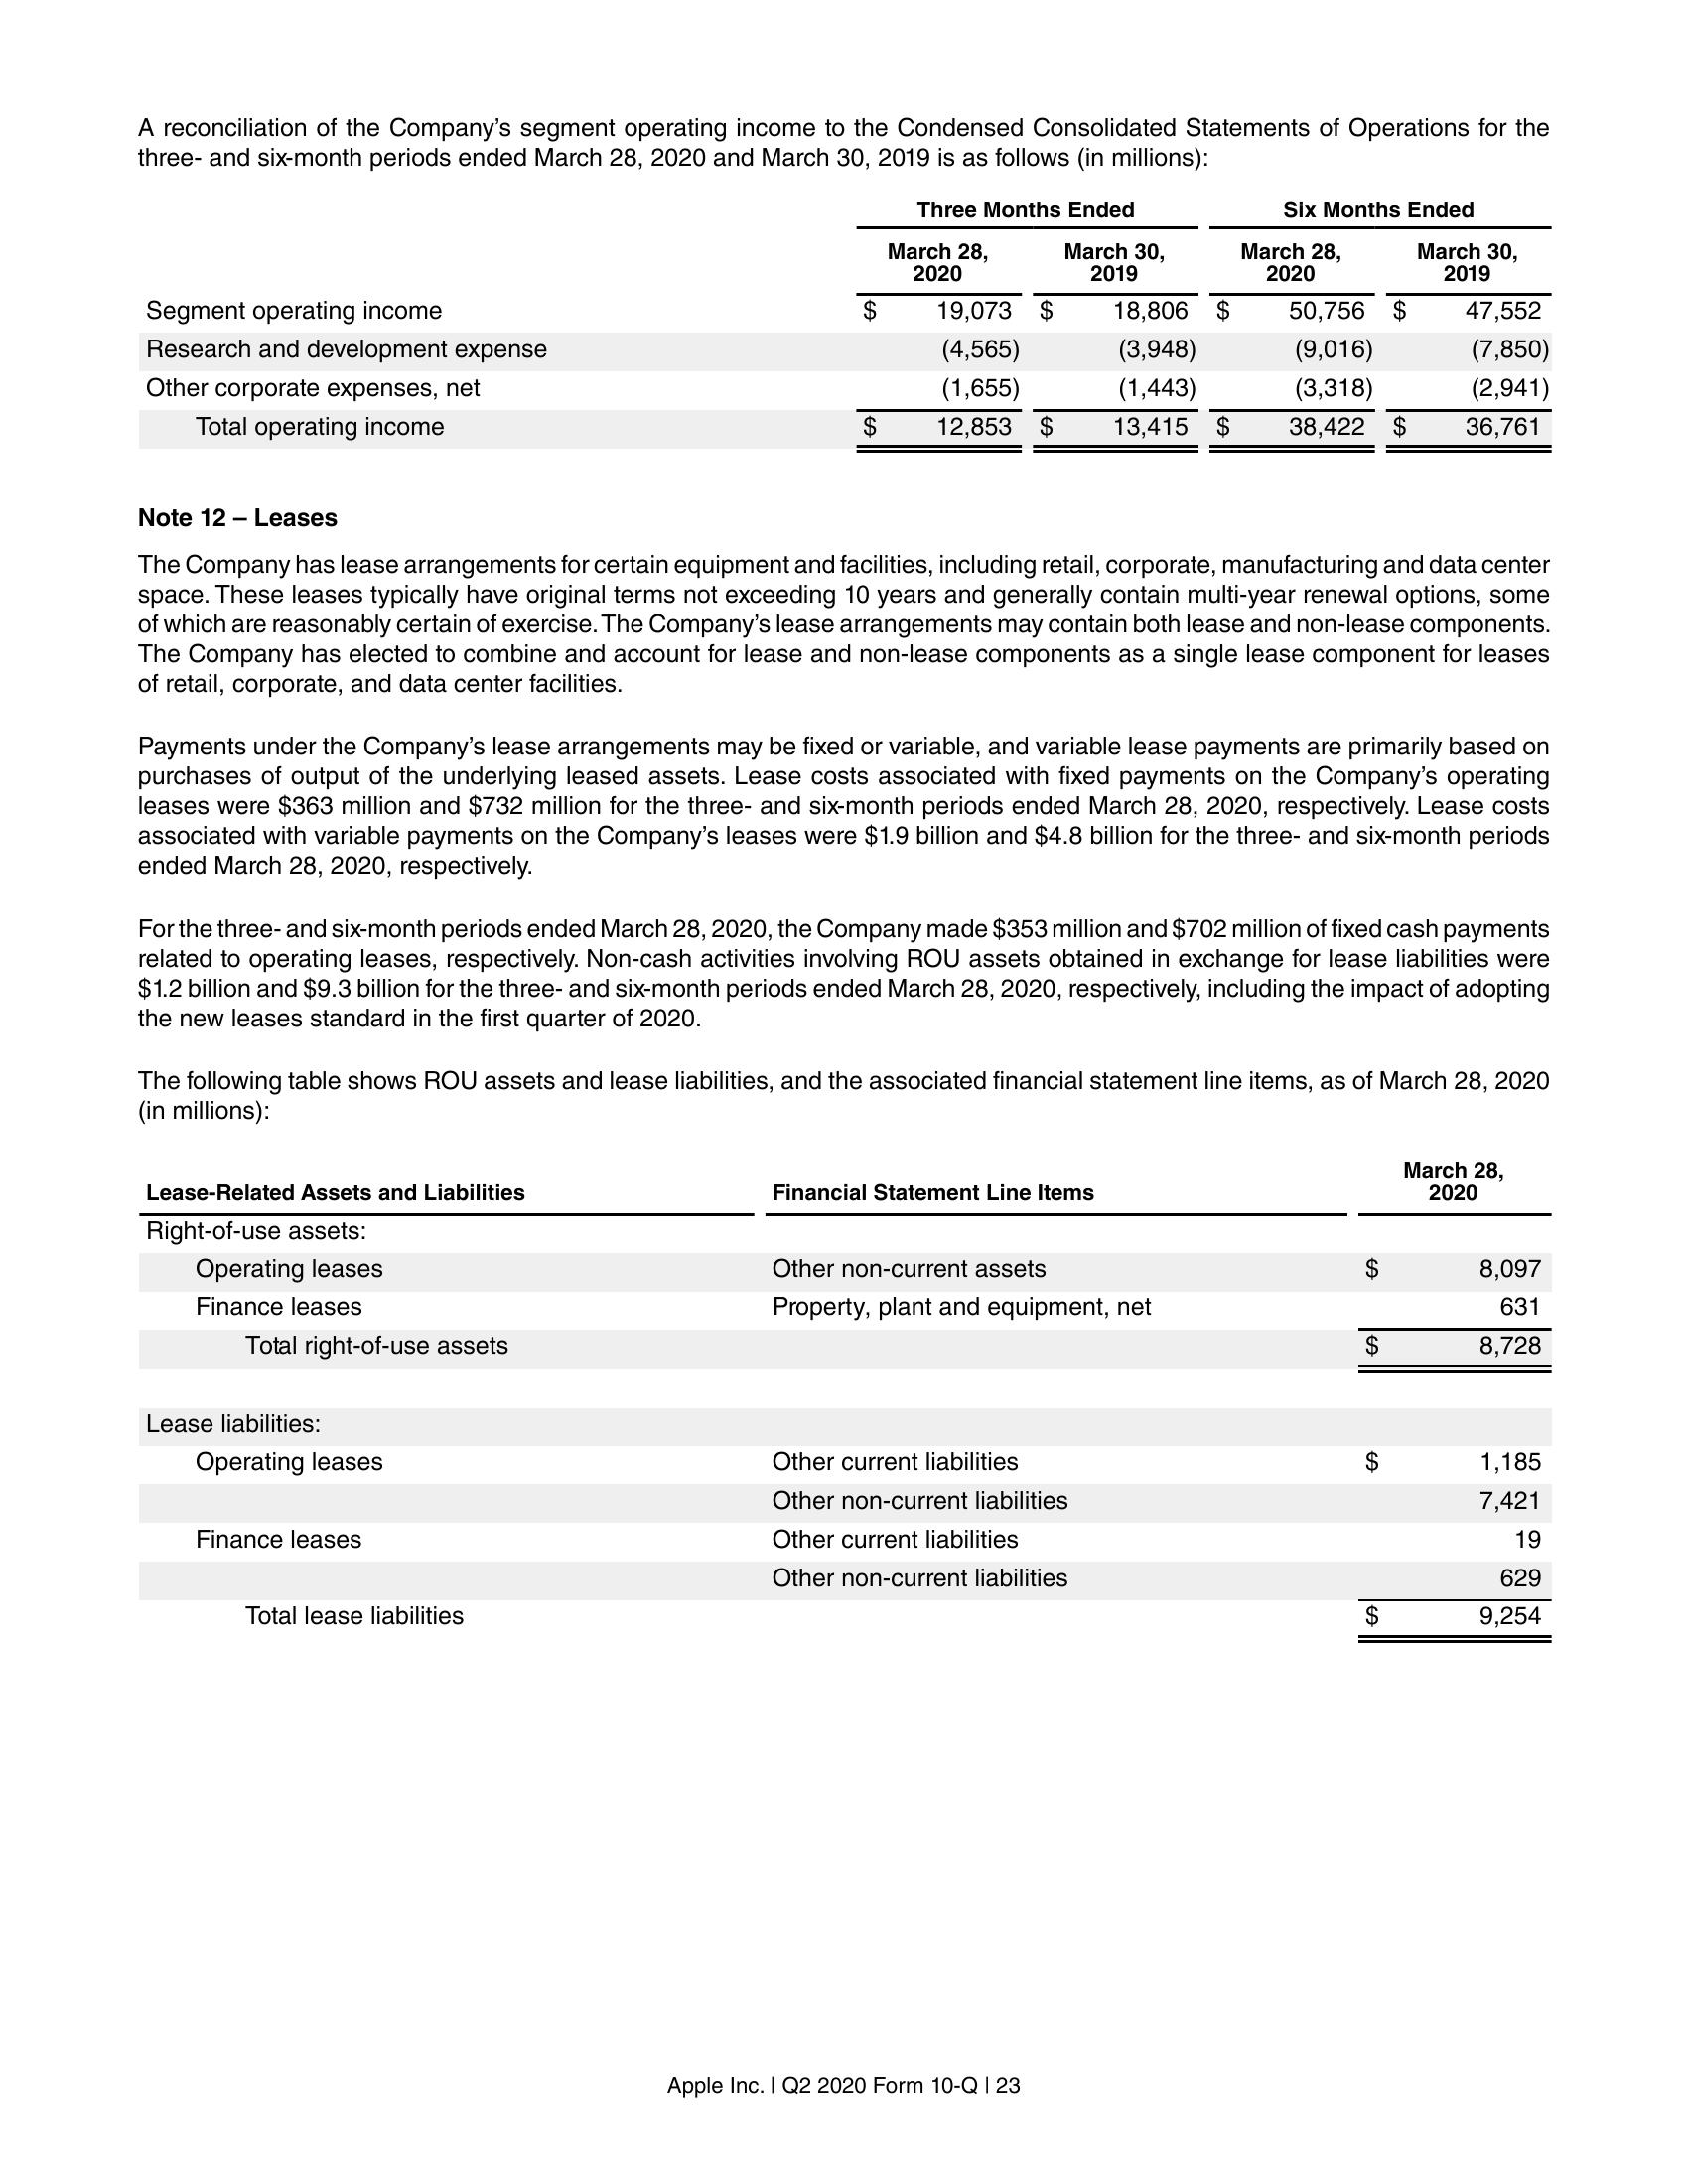table: (137, 1152, 1557, 1652), (142, 195, 1559, 461)
